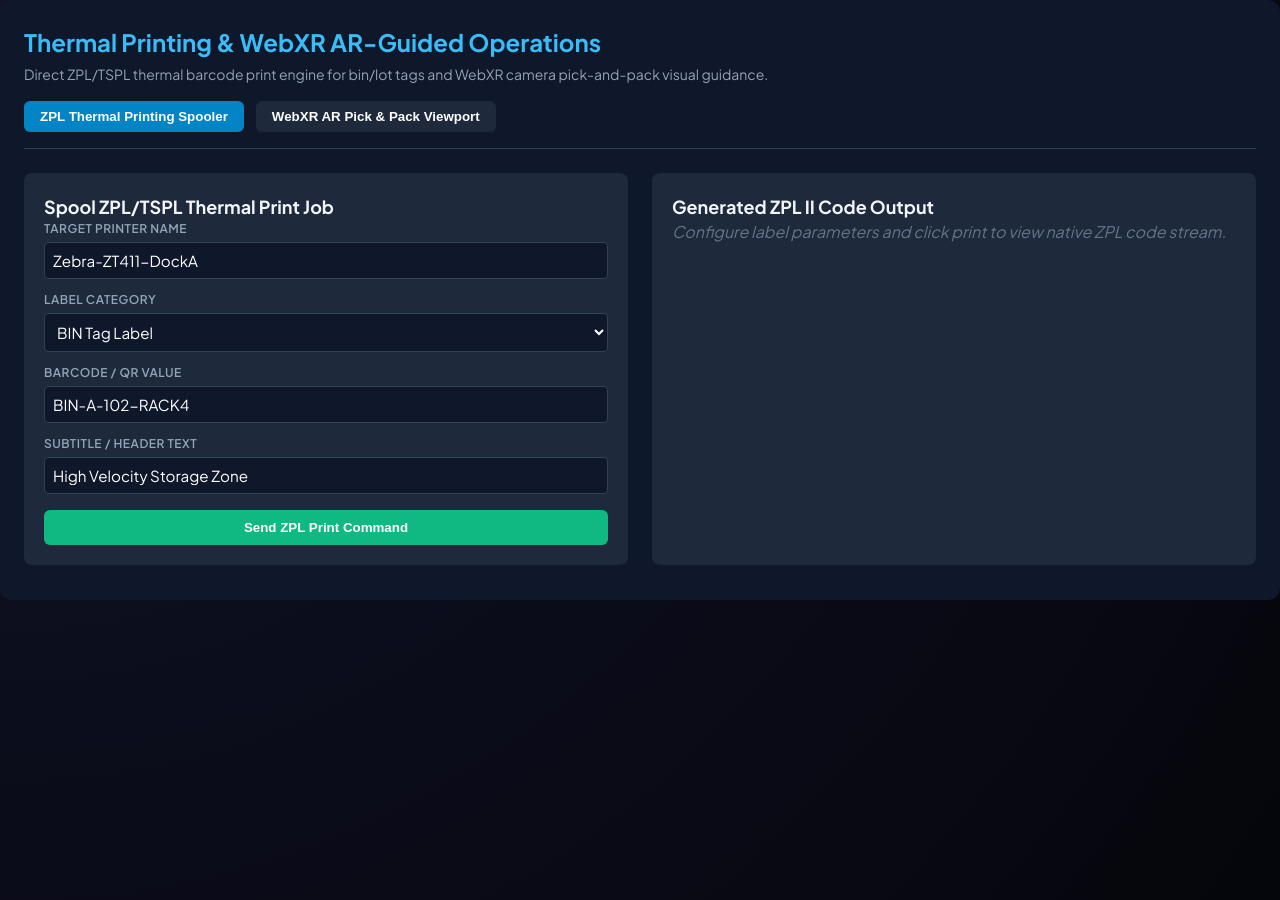
Test: ThermalPrintingArPanel › displays and dismisses error when api.printZplThermalLabel fails
Click the button "Send ZPL Print Command".
click(326, 528)  # box [44,510,608,545]
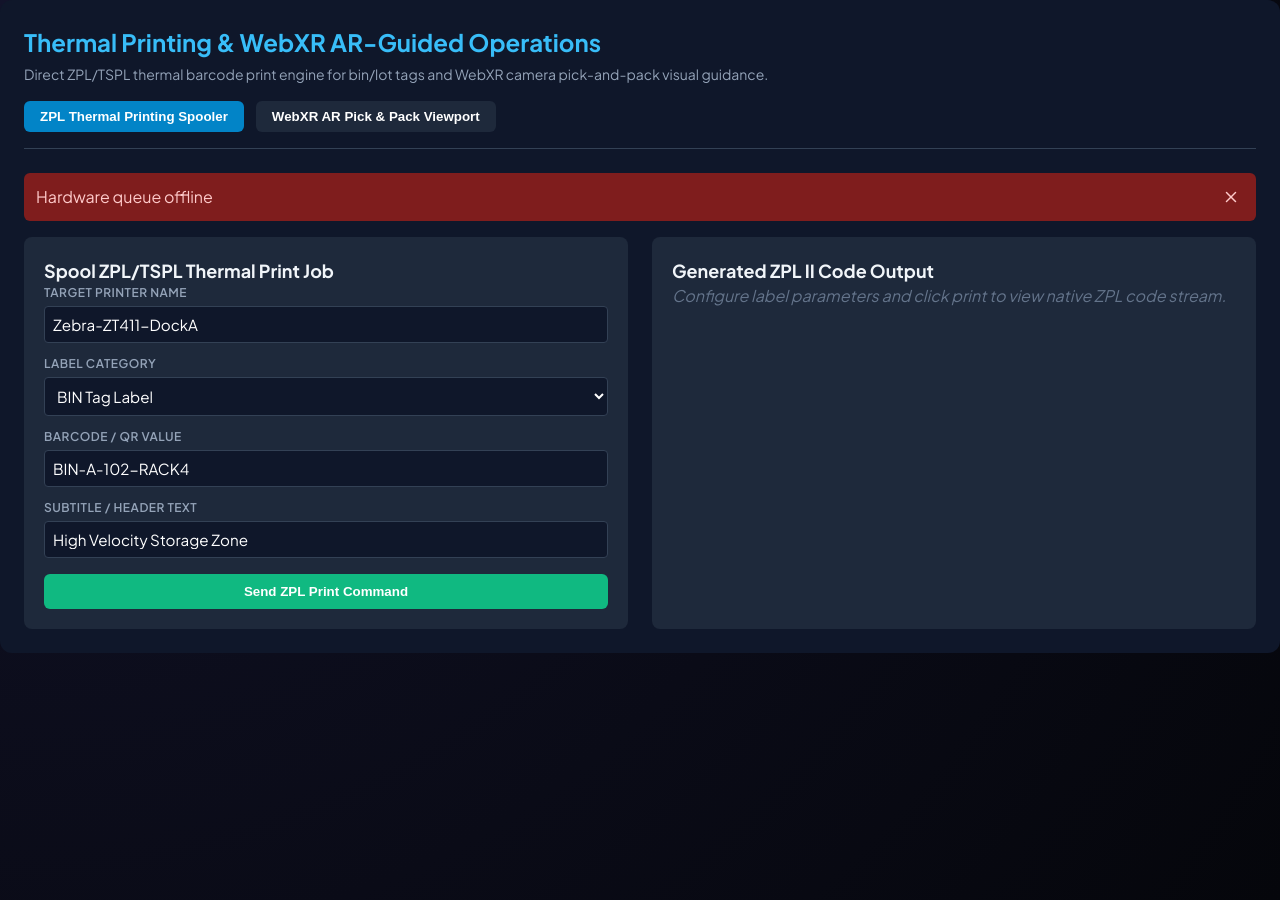
Now the message "Hardware queue offline" is shown, box [24,173,1256,221]
Now the text "Hardware queue offline" is shown, box [36,185,213,209]
# Dismiss error
Click the button named "Dismiss error".
click(1231, 197)  # box [1218,188,1244,206]
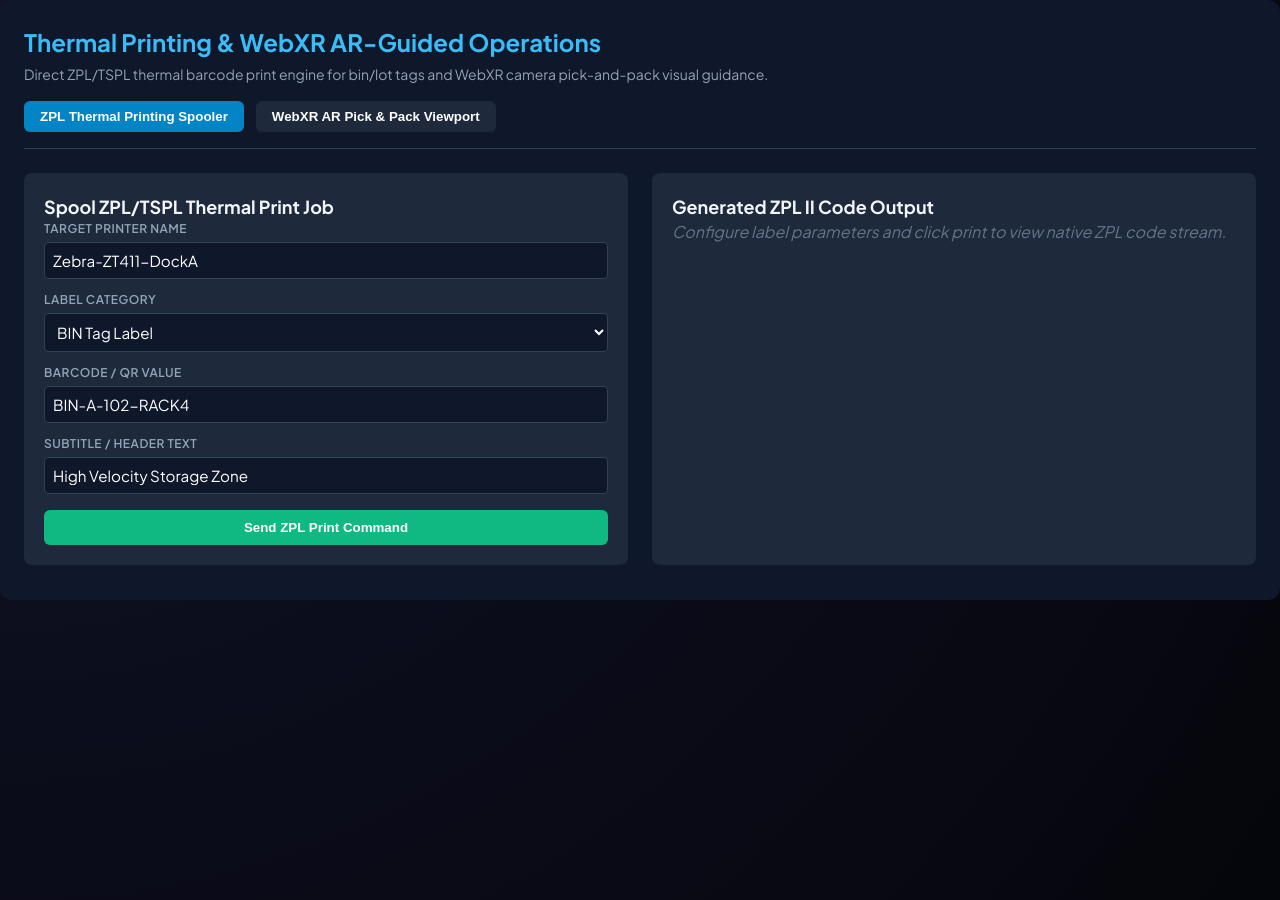
Now the message "Hardware queue offline" is gone
